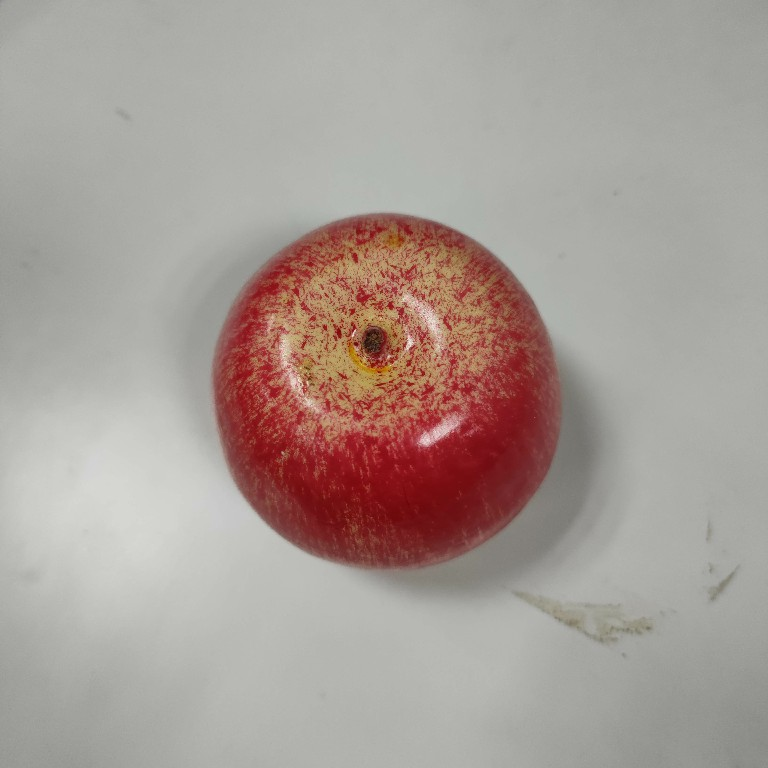fruit_apple: (202, 204, 573, 578)
